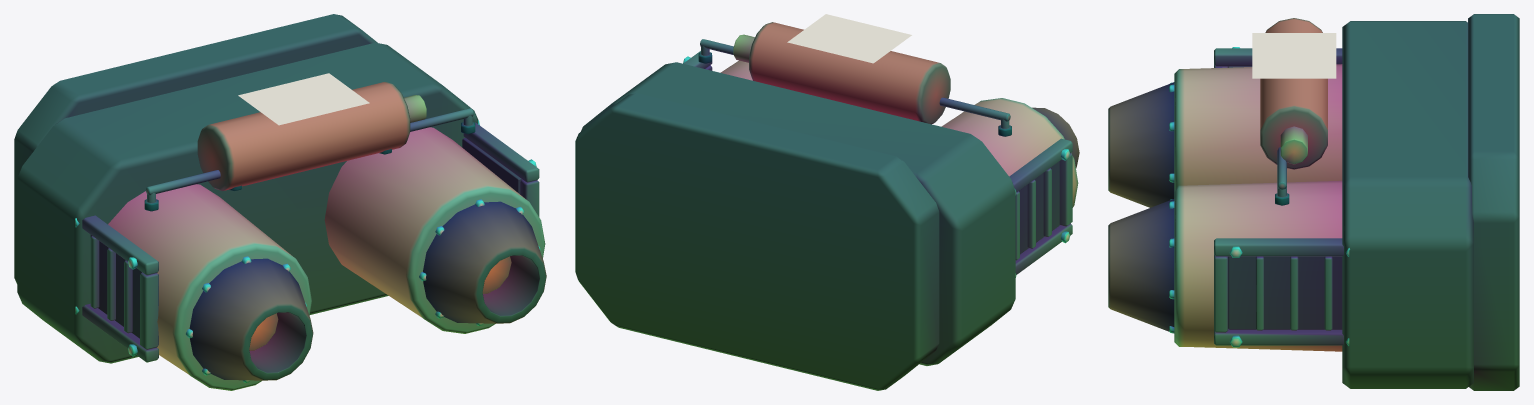
The model's file is gen_twin_apu_gtcp.glb.
The picture shows the model from 3 angles, left to right: view 1: azimuth 30°, elevation 25°; view 2: azimuth 150°, elevation 25°; view 3: azimuth 270°, elevation 25°; orthographic projection. The views are drawn at different scales.
Parts seen in each view (by area): view 1: Body__dark, Body__armor, Body__armor_oxide, Body__gunmetal, Body__decal, Body__emit_amber, Body__chrome, Body__brass; view 2: Body__dark, Body__armor_oxide, Body__gunmetal, Body__armor, Body__decal, Body__brass; view 3: Body__dark, Body__armor, Body__gunmetal, Body__armor_oxide, Body__decal, Body__brass, Body__chrome.
Part boxes in pixels (x1,y1,x2,y2): Body__dark: [14, 14, 546, 380]; Body__armor: [108, 127, 545, 390]; Body__armor_oxide: [197, 81, 410, 191]; Body__gunmetal: [82, 108, 539, 362]; Body__decal: [238, 73, 369, 125]; Body__emit_amber: [249, 256, 511, 350]; Body__chrome: [75, 120, 540, 382]; Body__brass: [404, 95, 426, 122]; Body__dark: [575, 52, 1079, 390]; Body__armor_oxide: [749, 22, 950, 124]; Body__gunmetal: [683, 39, 1072, 274]; Body__armor: [720, 60, 1078, 207]; Body__decal: [787, 14, 911, 63]; Body__brass: [733, 34, 754, 62]; Body__dark: [1108, 14, 1519, 390]; Body__armor: [1174, 64, 1342, 351]; Body__gunmetal: [1214, 48, 1343, 345]; Body__armor_oxide: [1260, 18, 1327, 169]; Body__decal: [1252, 33, 1336, 78]; Body__brass: [1280, 126, 1307, 164]; Body__chrome: [1169, 47, 1349, 347].
Size of the model in its own units: 0.8 by 0.49 by 0.686.
